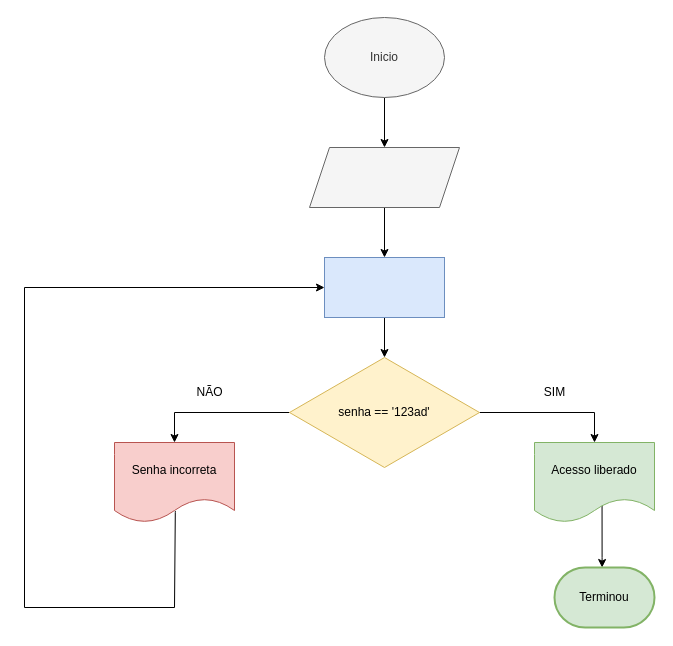
Some shapes in this 673 by 646 pixel diagram are drawn without their labels. The shapes that lost their labels are listed below. From the top down, each one's centre as x and y in pixels, then its label:
At pixel 384 177: "Ler senha".
At pixel 384 287: "Digite a senha:".
